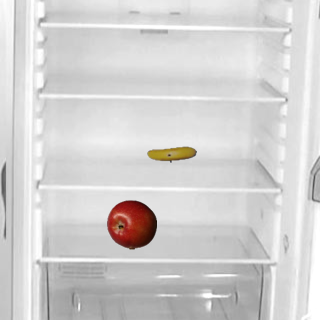Apple Braeburn: (106, 199, 156, 249)
Banana: (146, 129, 196, 179)
